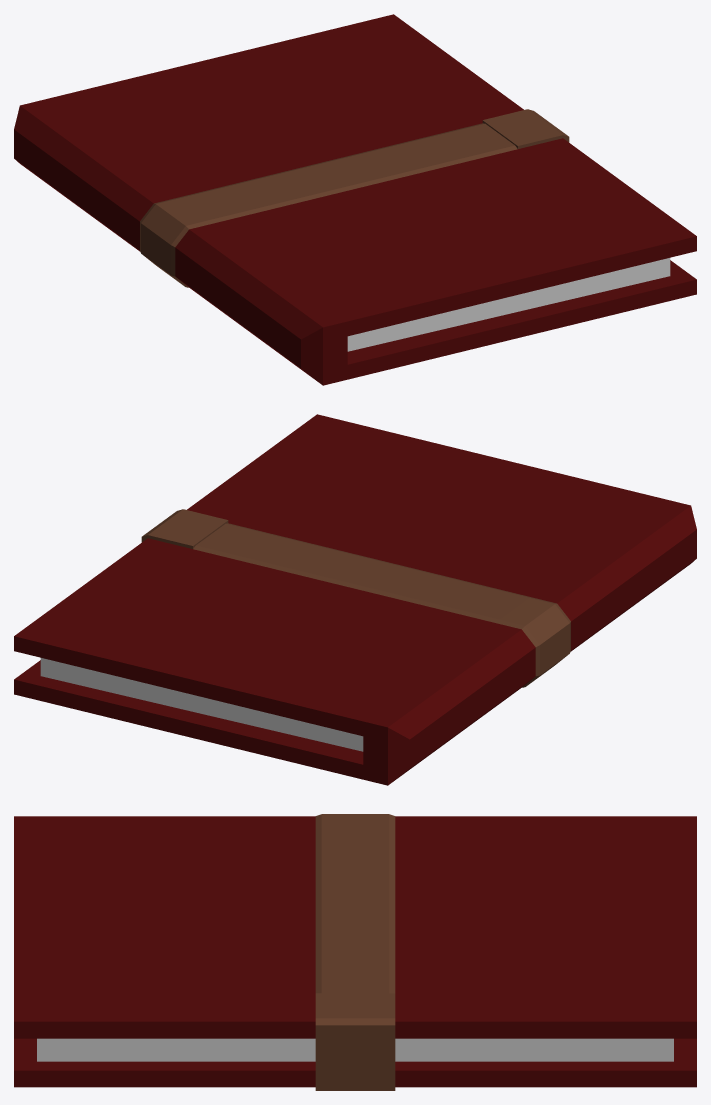
The model's file is AgendaClosedV1Red.fbx.
3 renders of one model, top to bottom at view 1: azimuth 30°, elevation 25°; view 2: azimuth 150°, elevation 25°; view 3: azimuth 270°, elevation 25°, orthographic. The views are drawn at different scales.
Visible parts, largest first — view 1: AgendaClosedV1Red; view 2: AgendaClosedV1Red; view 3: AgendaClosedV1Red.
Boxes of the visible parts, left/top/right/bottom form: AgendaClosedV1Red: left=14, top=14, right=696, bottom=385; AgendaClosedV1Red: left=14, top=414, right=696, bottom=785; AgendaClosedV1Red: left=14, top=814, right=696, bottom=1090.
Size of the model in its own units: 14.2 by 2.21 by 18.84.
